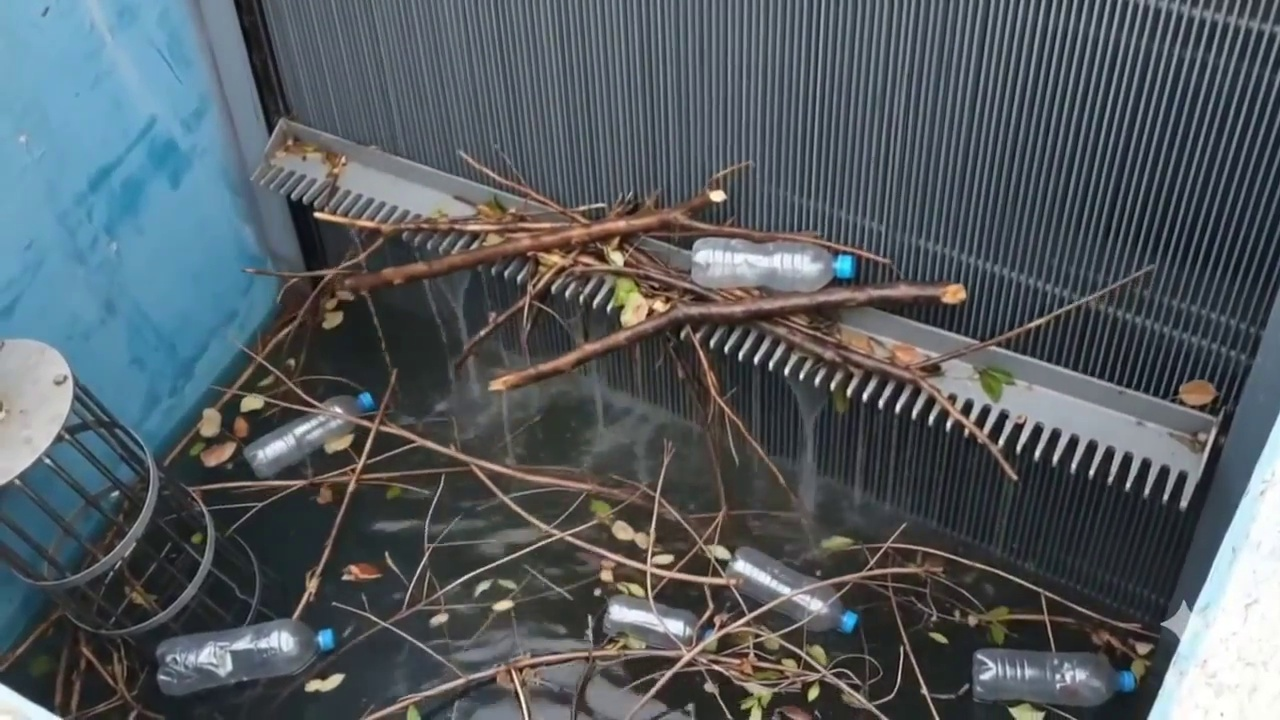debris: (299, 186, 966, 391), (28, 311, 250, 650), (652, 617, 879, 719), (774, 326, 967, 421), (380, 420, 589, 490), (157, 620, 336, 695), (723, 548, 858, 634), (245, 393, 376, 478), (971, 648, 1136, 705), (602, 590, 733, 648), (242, 348, 300, 391), (570, 540, 644, 566), (655, 570, 726, 585), (1084, 611, 1123, 626)
